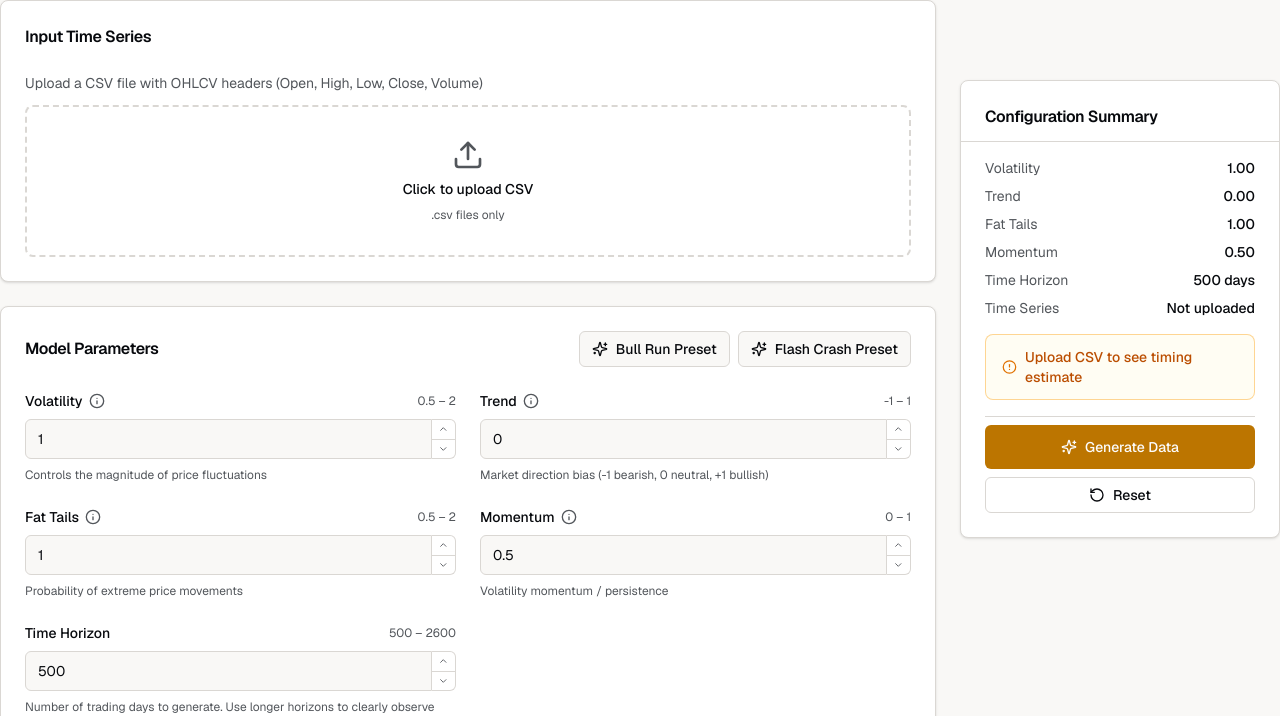
Test: ParameterizationForm › shows an error and disables generate when more than one knob is changed
The image size is (1280, 716).
Replace the text in the field named "volatility" with "1.4" at (229, 439), box [25, 419, 432, 459]
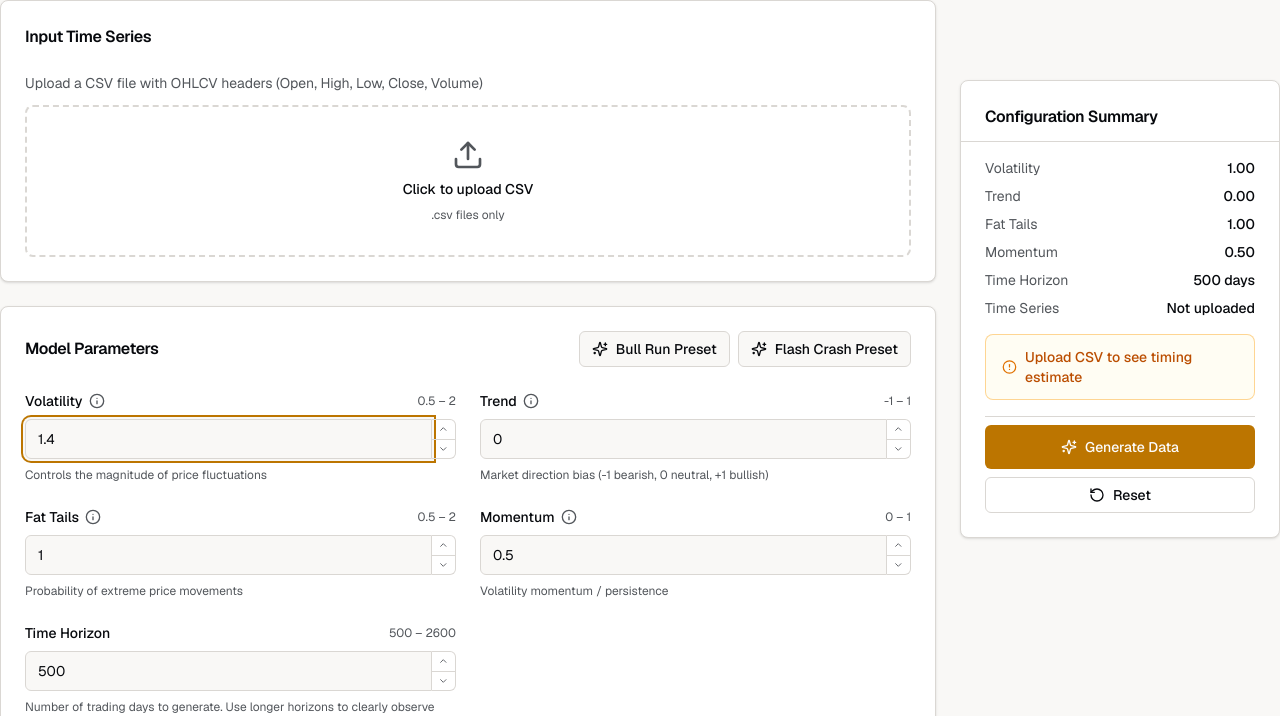
Press Tab
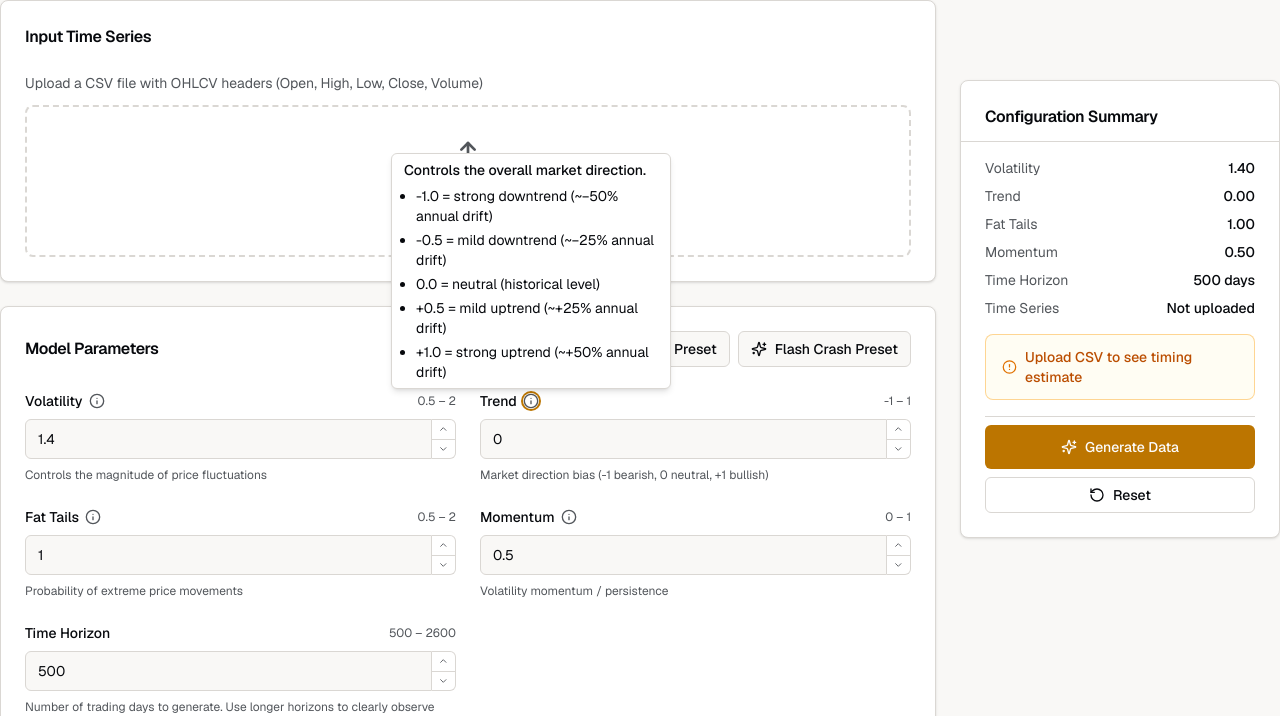
Replace the text in the field named "trend" with "0.2" at (684, 439), box [480, 419, 887, 459]
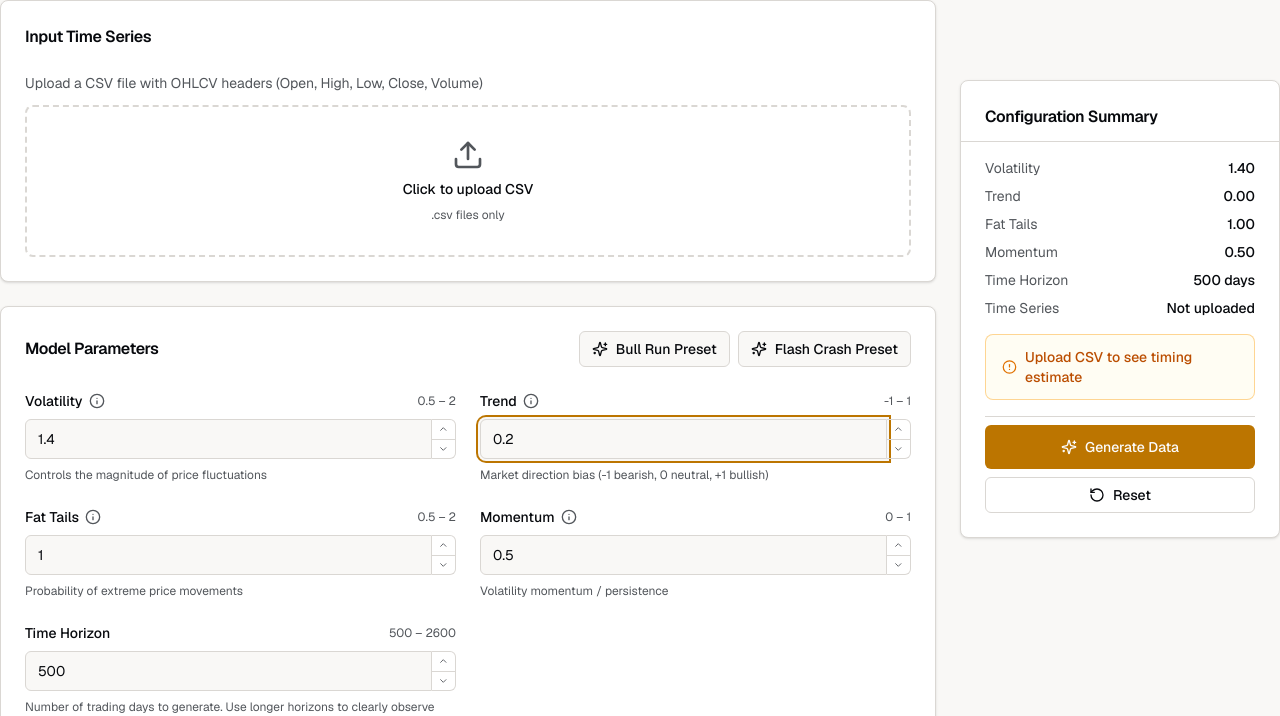
Press Tab
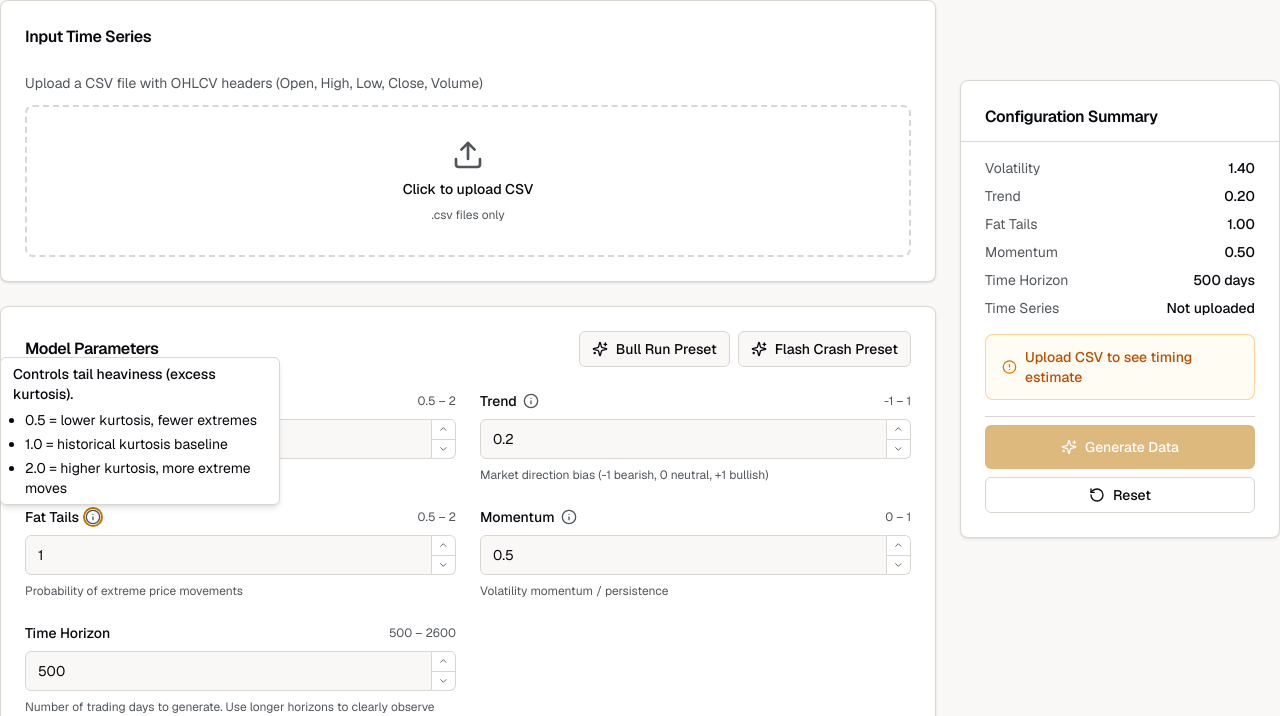
Now the button "Generate Data" is disabled, box [985, 425, 1255, 469]
